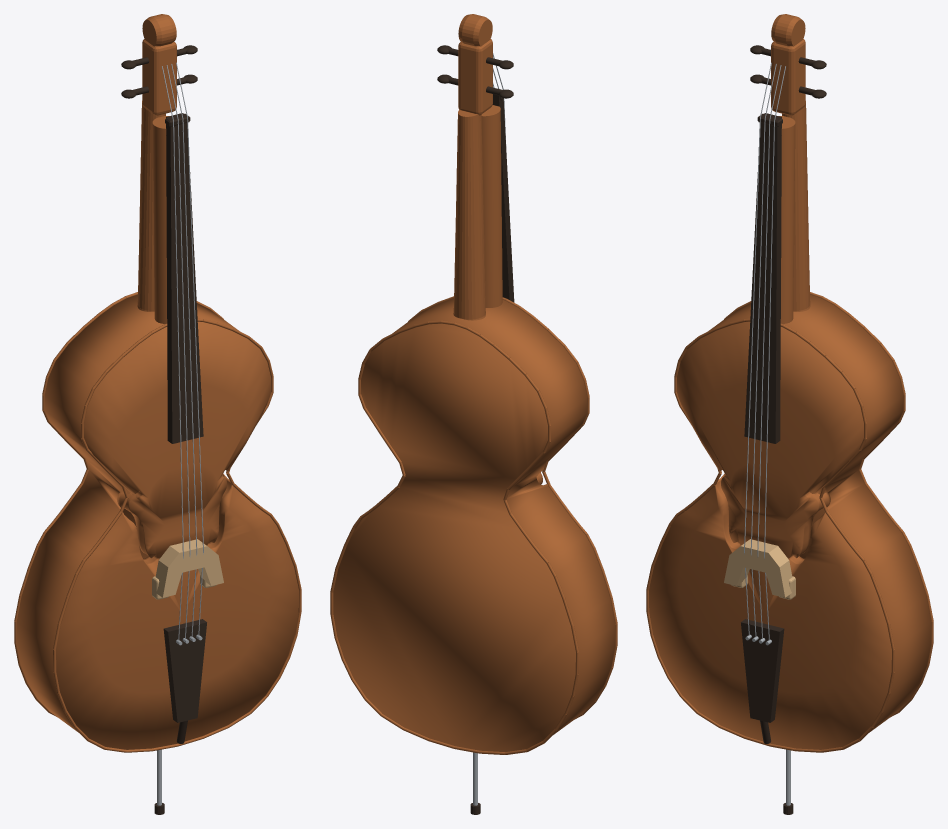
File: A-NEW-20261026-CELLO-001_LOD1_R7.fbx
The picture shows the model from 3 angles, left to right: view 1: azimuth 30°, elevation 25°; view 2: azimuth 150°, elevation 25°; view 3: azimuth 330°, elevation 25°; orthographic projection.
Parts seen in each view (by area): view 1: deep hollow cello body, unfretted fingerboard, tapered tailpiece, neck, neck forward support, carved bridge, pegbox, string 1, string 2, string 4, curled scroll, string 3; view 2: deep hollow cello body, neck, neck forward support, pegbox, unfretted fingerboard, curled scroll; view 3: deep hollow cello body, unfretted fingerboard, tapered tailpiece, neck, neck forward support, carved bridge, pegbox, string 4, string 1, string 3, curled scroll, string 2.
Part boxes in pixels (x1,y1,x2,y2): deep hollow cello body: (16,294,298,749); unfretted fingerboard: (166,113,203,443); tapered tailpiece: (163,619,206,722); neck: (137,101,165,311); neck forward support: (152,116,169,323); carved bridge: (155,539,223,597); pegbox: (142,39,176,115); string 1: (162,66,183,640); string 2: (166,65,190,638); string 4: (176,62,203,635); curled scroll: (142,14,176,46); string 3: (171,64,197,636); deep hollow cello body: (333,298,615,751); neck: (453,109,485,320); neck forward support: (481,105,502,307); pegbox: (458,39,492,115); unfretted fingerboard: (492,94,514,302); curled scroll: (458,14,492,46); deep hollow cello body: (649,294,931,749); unfretted fingerboard: (744,113,781,443); tapered tailpiece: (741,619,784,722); neck: (782,101,810,311); neck forward support: (778,116,795,323); carved bridge: (724,539,792,597); pegbox: (771,39,805,115); string 4: (764,66,785,640); string 1: (744,62,771,635); string 3: (757,65,781,638); curled scroll: (771,14,805,46); string 2: (750,64,776,636).
Bounding box in the file's own units: 44.5 × 136 × 17.33.
